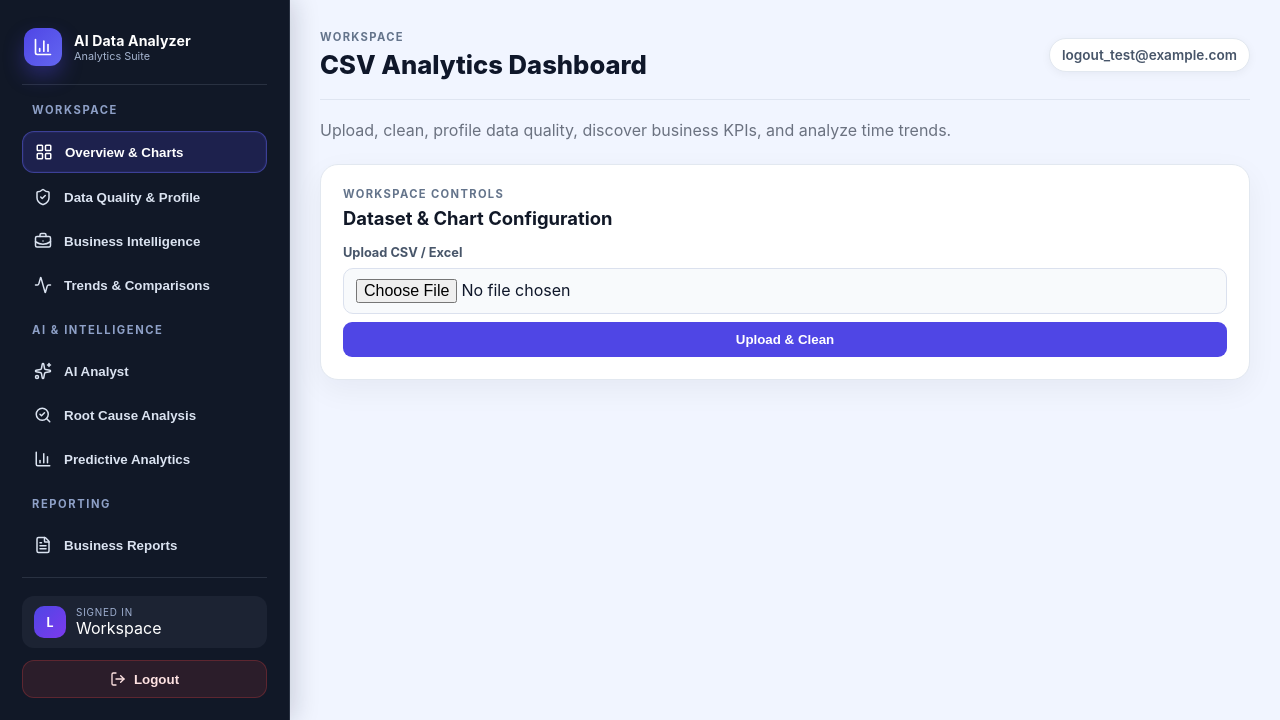
AI Data Analyzer Frontend – Phase 3 Test Suite › Authentication Flow & Error Display › logs out cleanly and redirects to login card
Click the button "Logout": (144, 679) top-left (22, 660), bottom-right (267, 698)
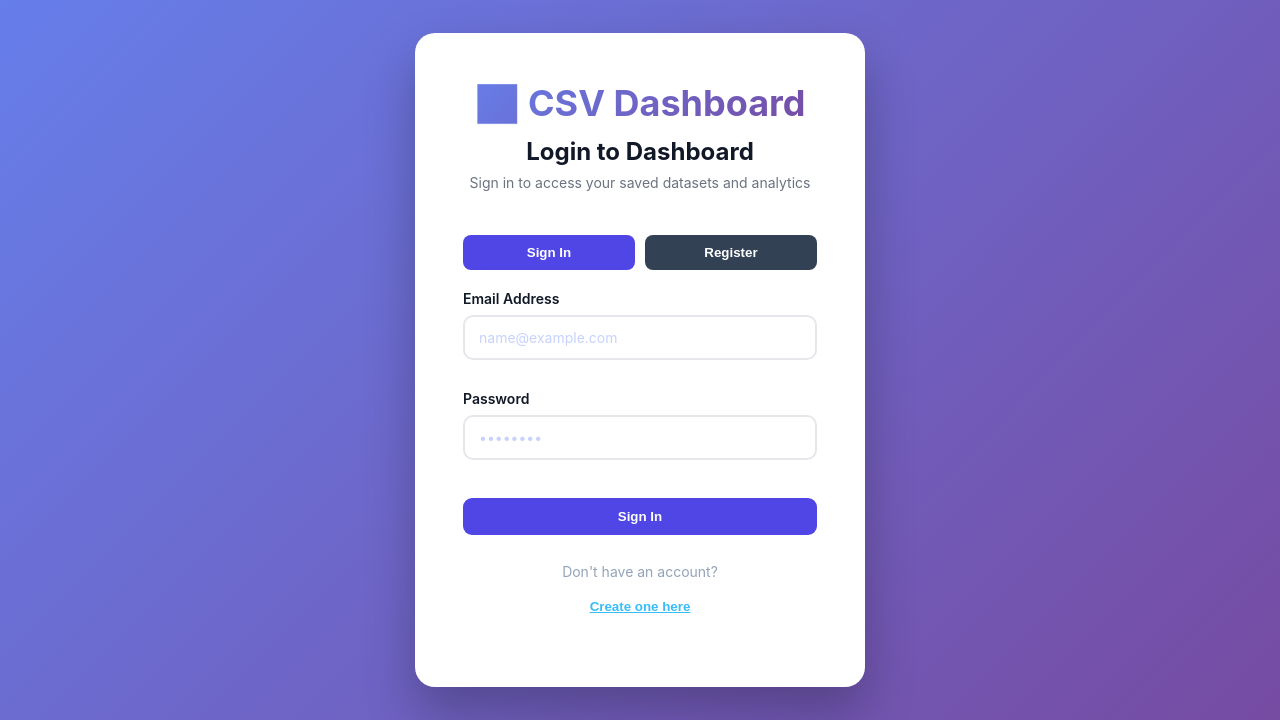
Now the heading "Login to Dashboard" is shown, box top-left (526, 137), bottom-right (754, 166)
